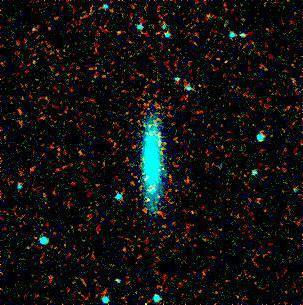star: (139, 186, 169, 216)
